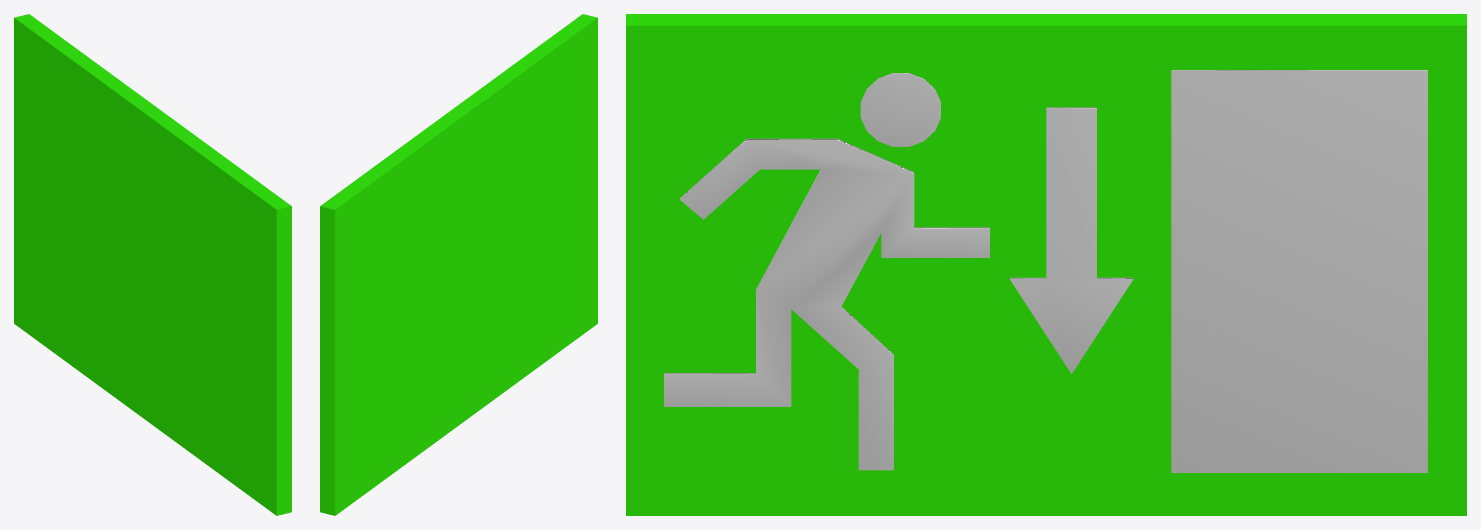
Rendered from Elec_exit sign.fbx.
The picture shows the model from 3 angles, left to right: view 1: azimuth 30°, elevation 25°; view 2: azimuth 150°, elevation 25°; view 3: azimuth 270°, elevation 25°; orthographic projection. The views are drawn at different scales.
Visible parts, largest first — view 1: Cube; view 2: Cube; view 3: Cube.
Boxes of the visible parts, left/top/right/bottom form: Cube: left=14, top=14, right=291, bottom=515; Cube: left=320, top=14, right=597, bottom=515; Cube: left=626, top=14, right=1466, bottom=515.
Size of the model in its own units: 15.92 by 244 by 379.
